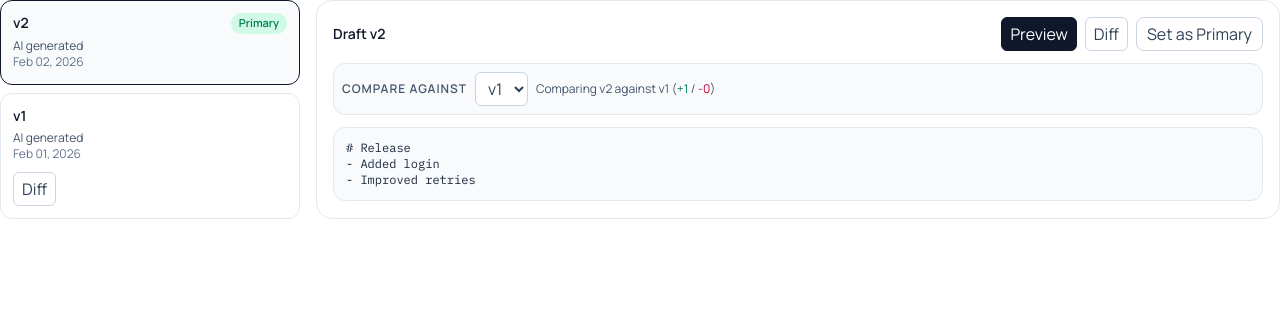
Test case: ReleaseDraftsTab › shows diff mode and compares selected version against another draft
Check: the text "Draft v2" is shown, box [333,24,386,44]
Check: the text "Comparing v2 against v1 (+1 / -0)" is shown, box [536,81,715,97]
Click the button with aria-label "Diff against draft v1": (35, 188) [13,172,56,206]
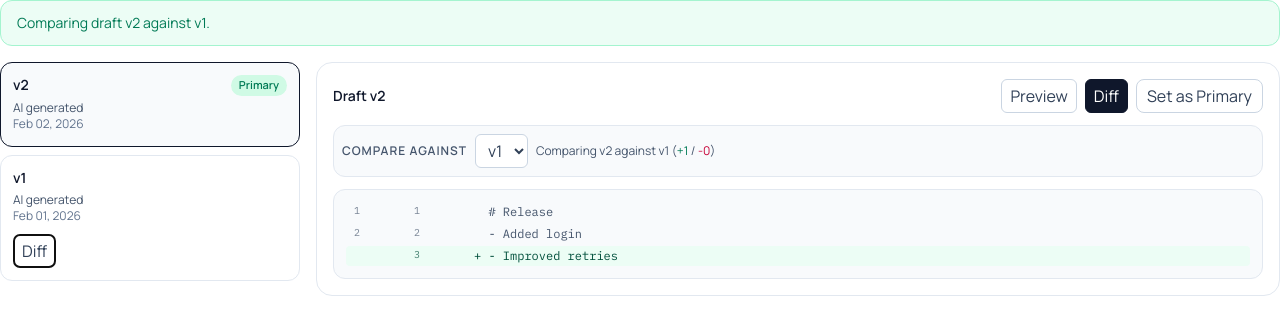
Check: the text "Comparing draft v2 against v1." is shown, box [0,0,1279,46]
Check: the text "+ - Improved retries" is shown, box [474,248,618,263]
